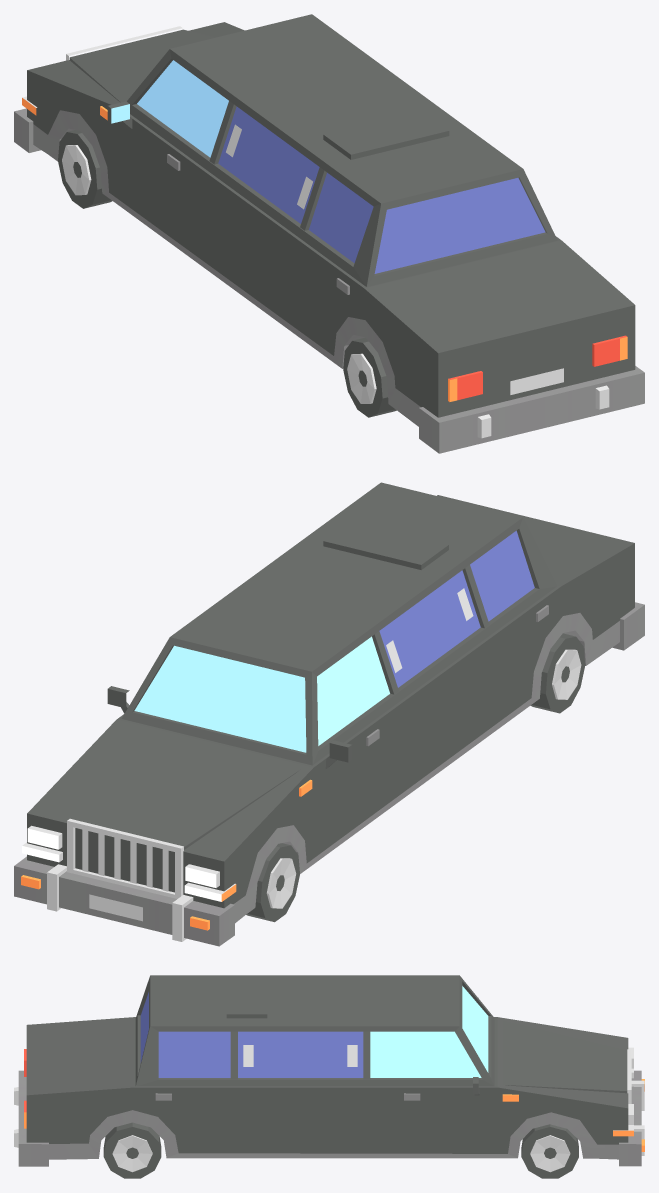
File: transport_cool.glb
The picture shows the model from 3 angles, top to bottom: view 1: azimuth 30°, elevation 25°; view 2: azimuth 150°, elevation 25°; view 3: azimuth 270°, elevation 25°; orthographic projection. The views are drawn at different scales.
Parts seen in each view (by area): view 1: transport_cool(Clone); view 2: transport_cool(Clone); view 3: transport_cool(Clone).
Part boxes in pixels (bbox=[...]): transport_cool(Clone): bbox=[14, 14, 644, 453]; transport_cool(Clone): bbox=[14, 482, 644, 946]; transport_cool(Clone): bbox=[14, 975, 644, 1178].
Size of the model in its own units: 1.48 by 1.17 by 4.58.
1 material, 1 textured.
